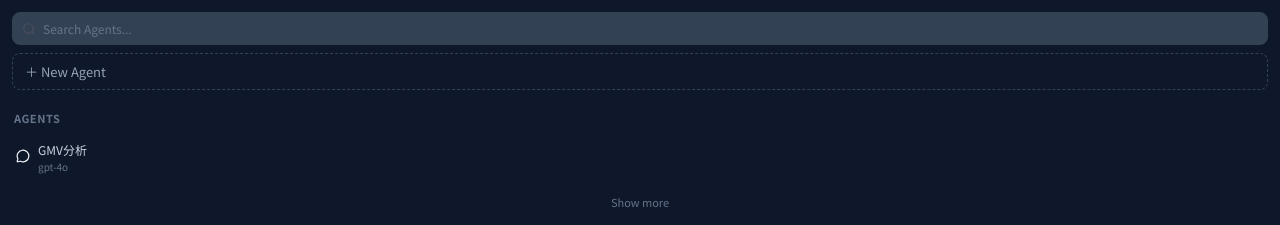
Phase 2 - 双击重命名 › Escape 取消编辑
Step 1. Double-click the text "GMV分析" → (62, 150), box [38, 141, 87, 158]
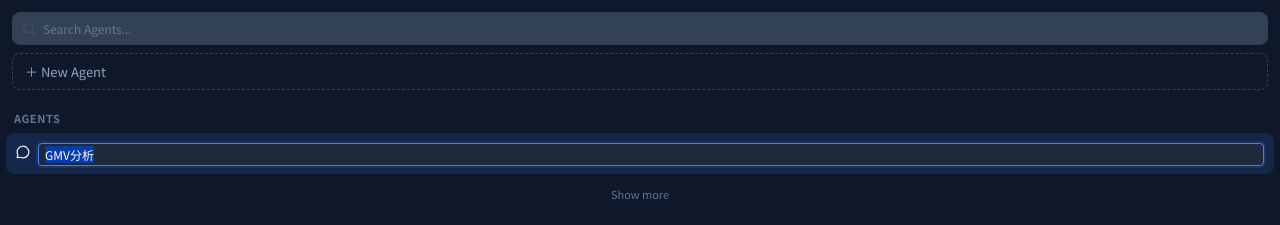
Step 2. Replace the text in the 2nd field with "别的名字" → (651, 154), box [38, 143, 1264, 166]
Then press Escape
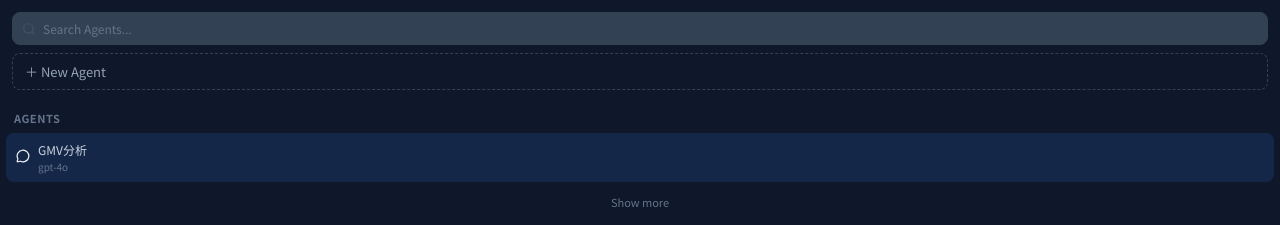
Check: the text "GMV分析" is shown, box [38, 141, 87, 158]
Check: the field is gone
